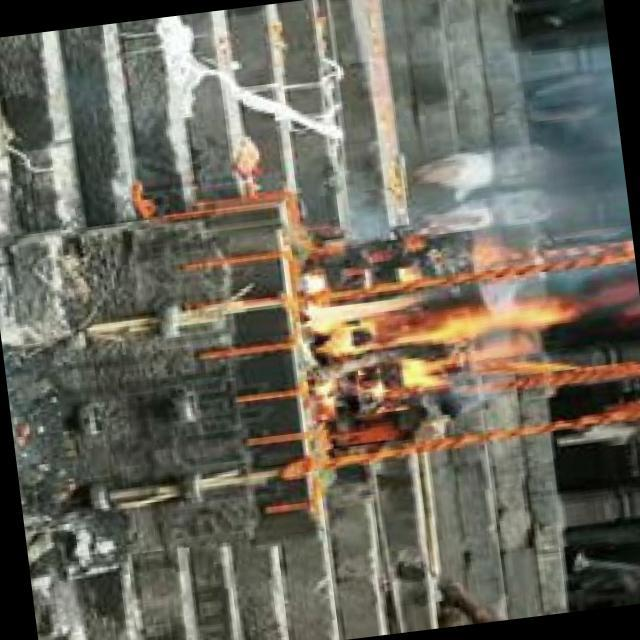Fire: (303, 251, 580, 407)
